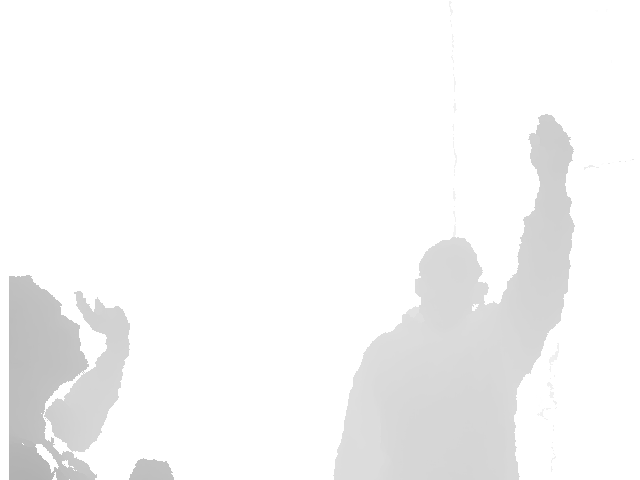hand: (529, 115, 574, 204)
head: (8, 272, 91, 389), (414, 236, 489, 320)
person: (332, 115, 575, 480), (10, 272, 176, 480)
